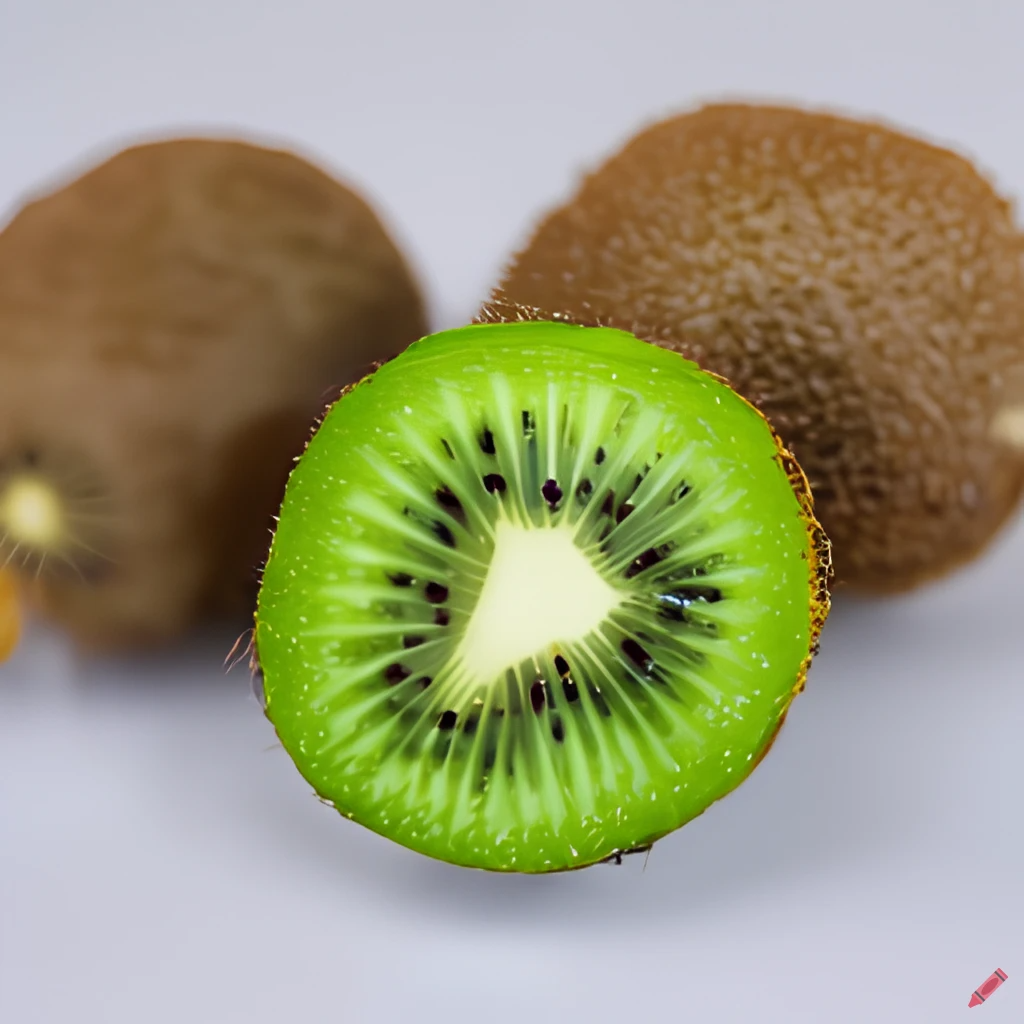Kiwi: (239, 304, 810, 876), (476, 101, 1024, 558), (0, 128, 428, 650)
